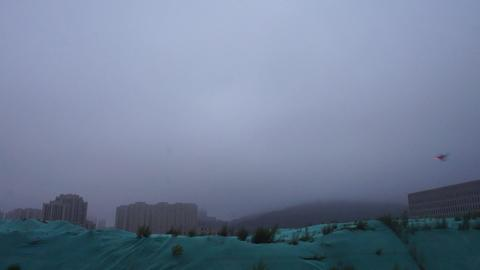UAV: (434, 154, 450, 161)
